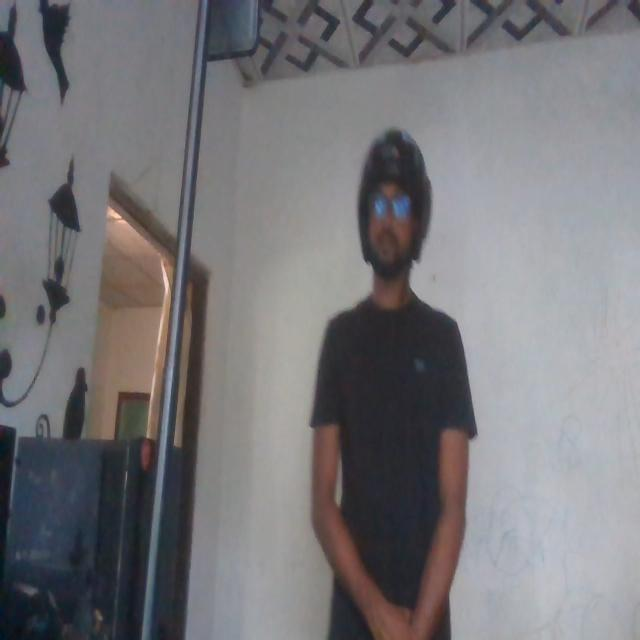Helmet_Wearer: (348, 122, 440, 345)
Person: (304, 118, 478, 640)
